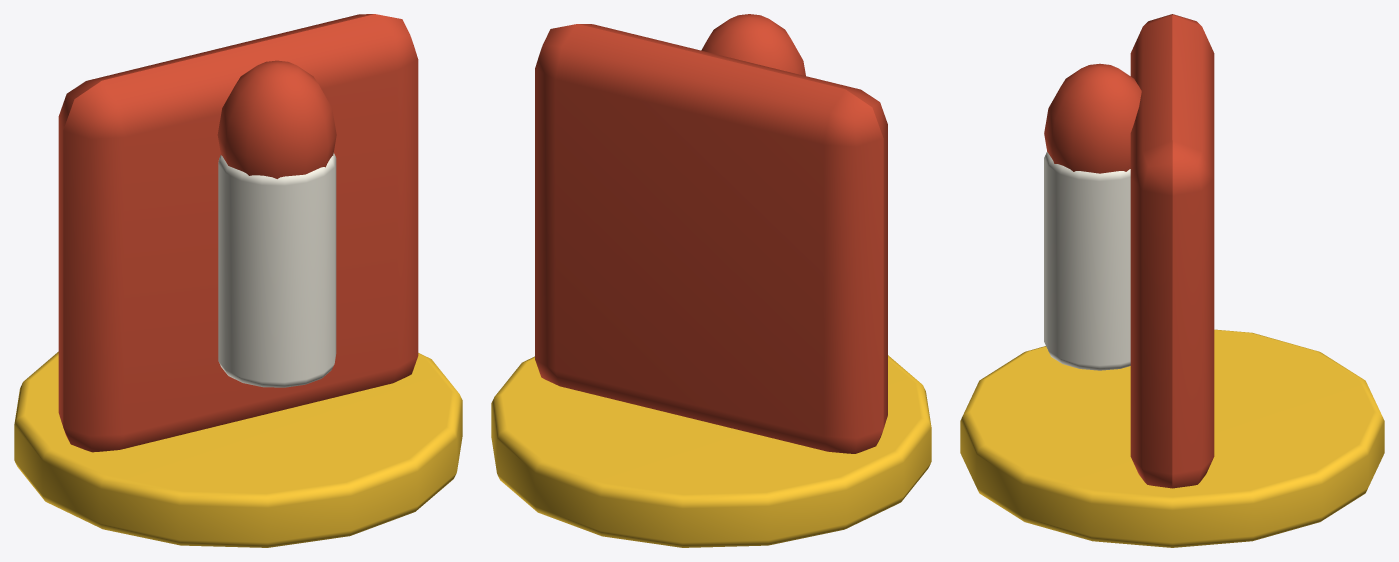
The model's file is COM-POWER-03.glb.
3 views of the same model, side by side, from view 1: azimuth 30°, elevation 25°; view 2: azimuth 150°, elevation 25°; view 3: azimuth 270°, elevation 25° (orthographic). The views are drawn at different scales.
Visible parts, largest first — view 1: badge, base, rocket, nose; view 2: badge, base, nose; view 3: base, badge, rocket, nose.
Part boxes in pixels (bbox=[...]): badge: bbox=[58, 14, 418, 452]; base: bbox=[14, 351, 462, 547]; rocket: bbox=[218, 153, 336, 387]; nose: bbox=[217, 60, 336, 178]; badge: bbox=[535, 24, 887, 453]; base: bbox=[491, 355, 931, 547]; nose: bbox=[701, 14, 805, 75]; base: bbox=[960, 329, 1384, 547]; badge: bbox=[1130, 14, 1214, 488]; rocket: bbox=[1044, 151, 1130, 370]; nose: bbox=[1044, 63, 1141, 173].
Size of the model in its own units: 0.76 by 0.78 by 0.76.
